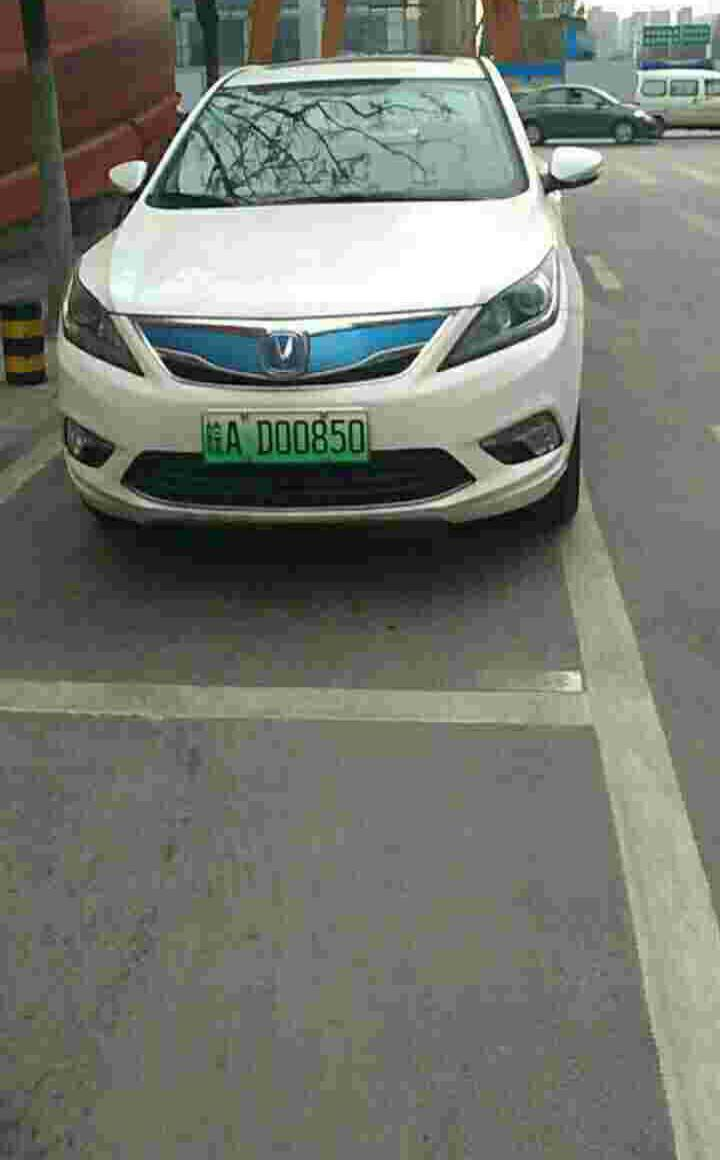car_id: (200, 409, 371, 462)
